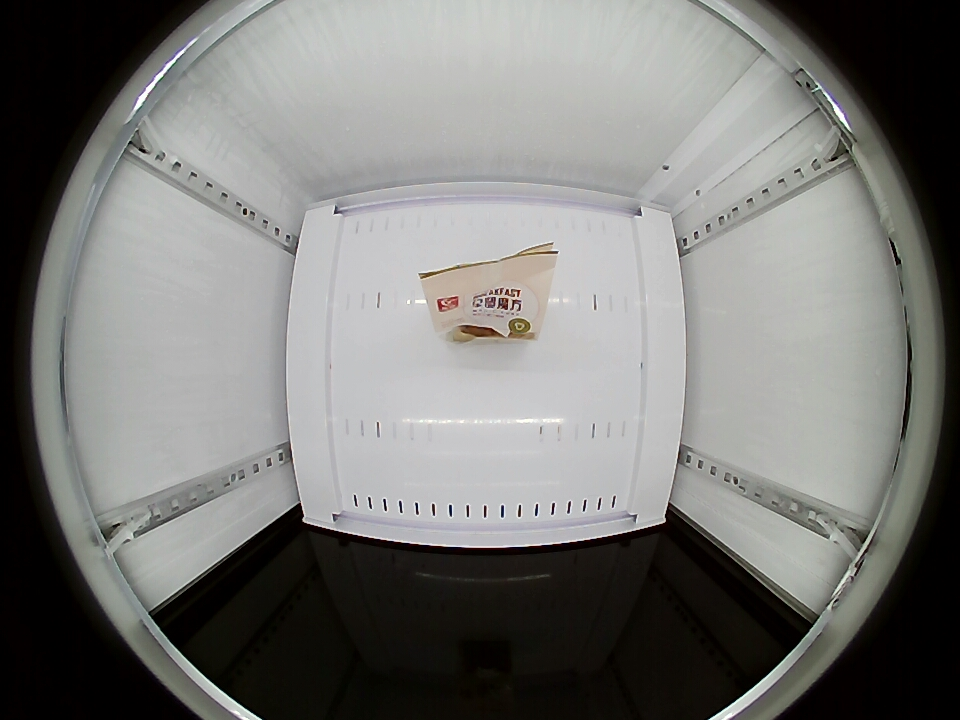zaocanmofang: (414, 233, 561, 339)
